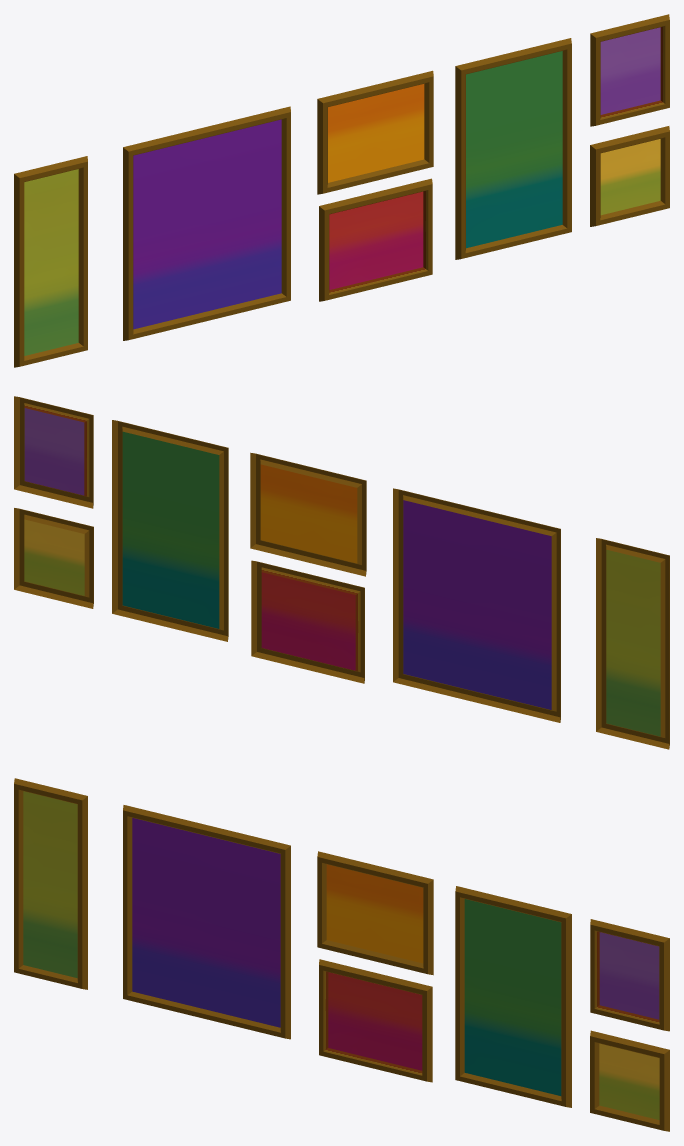
The model's file is Tranhve06.fbx.
3 renders of one model, top to bottom at view 1: azimuth 30°, elevation 25°; view 2: azimuth 150°, elevation 25°; view 3: azimuth 330°, elevation 25°, orthographic.
Visible parts, largest first — view 1: Tranhve06; view 2: Tranhve06; view 3: Tranhve06.
Boxes of the visible parts, x1,y1,x2,y2 form: Tranhve06: (14, 14, 669, 367); Tranhve06: (14, 396, 669, 749); Tranhve06: (14, 778, 669, 1131).
Size of the model in its own units: 1006 by 298 by 8.54.
